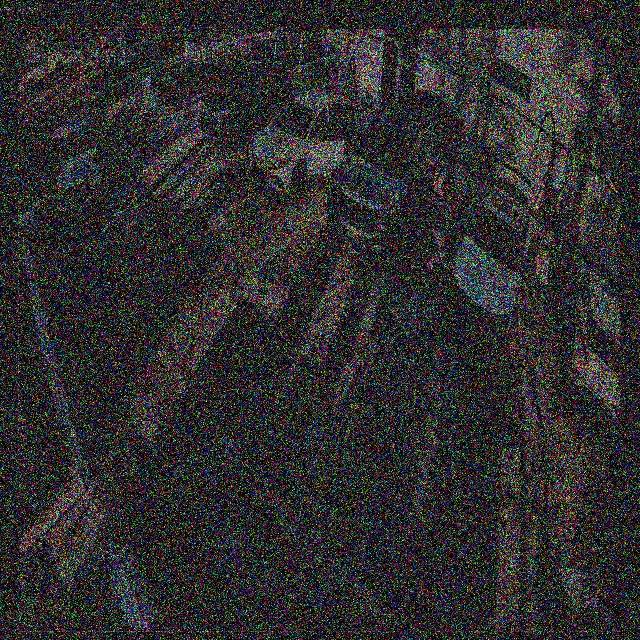Car: (329, 91, 453, 265), (450, 160, 535, 342), (249, 87, 362, 191)
